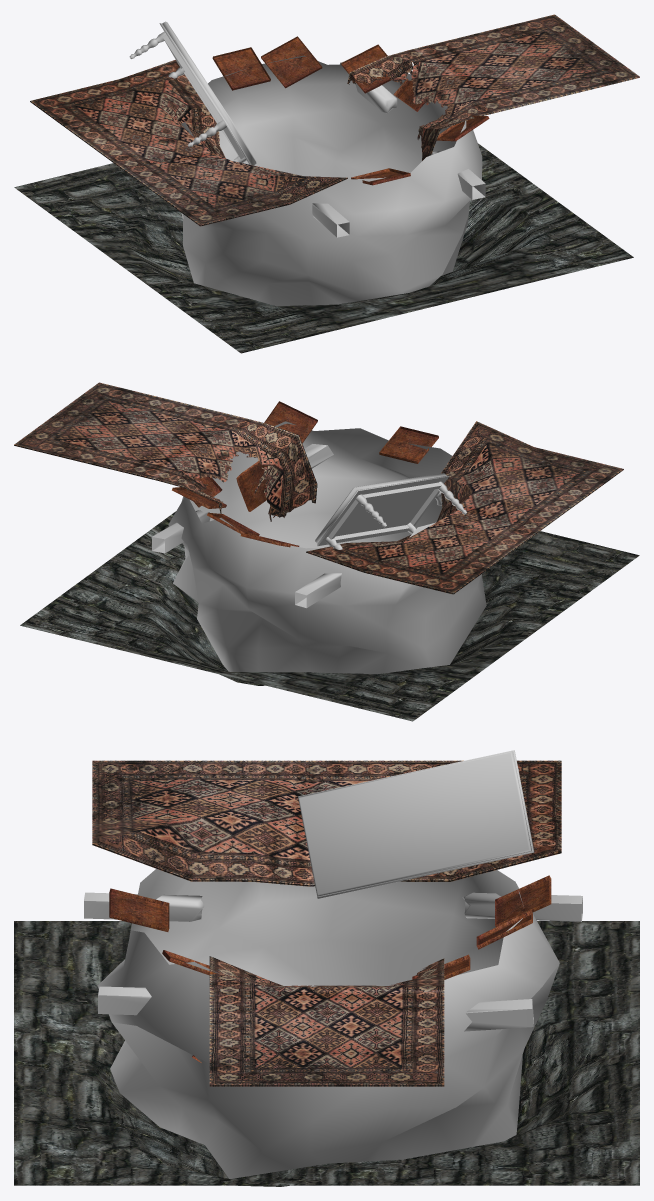
The model's file is ceiling_rough_broken.dae.
3 renders of one model, top to bottom at view 1: azimuth 30°, elevation 25°; view 2: azimuth 150°, elevation 25°; view 3: azimuth 270°, elevation 25°, orthographic. The views are drawn at different scales.
Visible parts, largest first — view 1: polySurface1, polySurface2, polySurface39, polySurface40, polySurface11, table_nice02_mesh, polySurface38; view 2: polySurface1, polySurface2, polySurface39, polySurface40, table_nice02_mesh, polySurface11, polySurface38; view 3: polySurface1, polySurface2, polySurface39, polySurface40, table_nice02_mesh, polySurface38, polySurface11.
Part boxes in pixels (x1,y1,x2,y2): polySurface1: (181, 55, 482, 306); polySurface2: (14, 143, 633, 353); polySurface39: (30, 60, 347, 226); polySurface40: (347, 14, 639, 160); polySurface11: (212, 36, 489, 185); table_nice02_mesh: (129, 21, 256, 165); polySurface38: (312, 61, 485, 237); polySurface1: (168, 421, 486, 674); polySurface2: (20, 511, 639, 721); polySurface39: (306, 421, 623, 594); polySurface40: (14, 382, 317, 521); table_nice02_mesh: (315, 473, 466, 549); polySurface11: (172, 401, 438, 547); polySurface38: (151, 444, 441, 608); polySurface1: (97, 869, 559, 1178); polySurface2: (14, 921, 639, 1186); polySurface39: (92, 760, 561, 886); polySurface40: (209, 956, 444, 1086); table_nice02_mesh: (298, 750, 534, 898); polySurface38: (84, 892, 582, 1031); polySurface11: (109, 875, 551, 1062).
Size of the model in its own units: 9.81 by 4.4 by 8.
